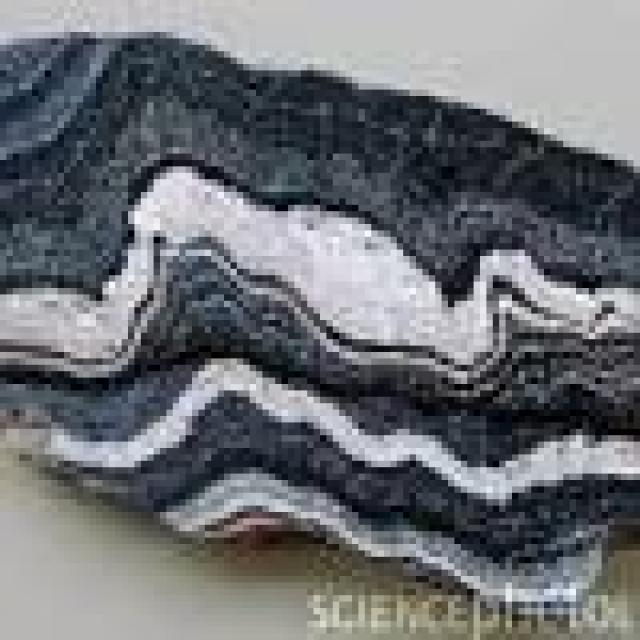Metamorphic: (6, 12, 628, 570)
